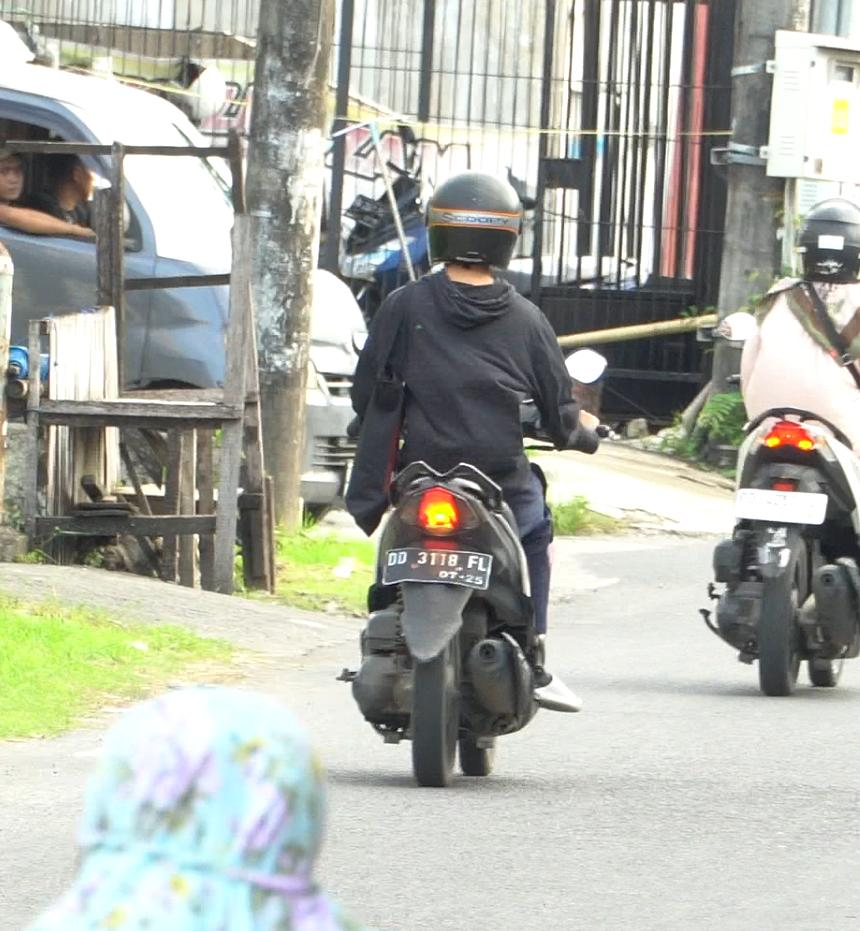number-plate: (380, 548, 492, 589)
